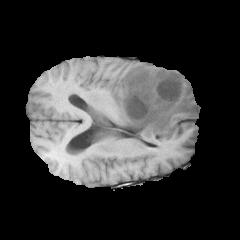glioma: (110, 67, 199, 137)
